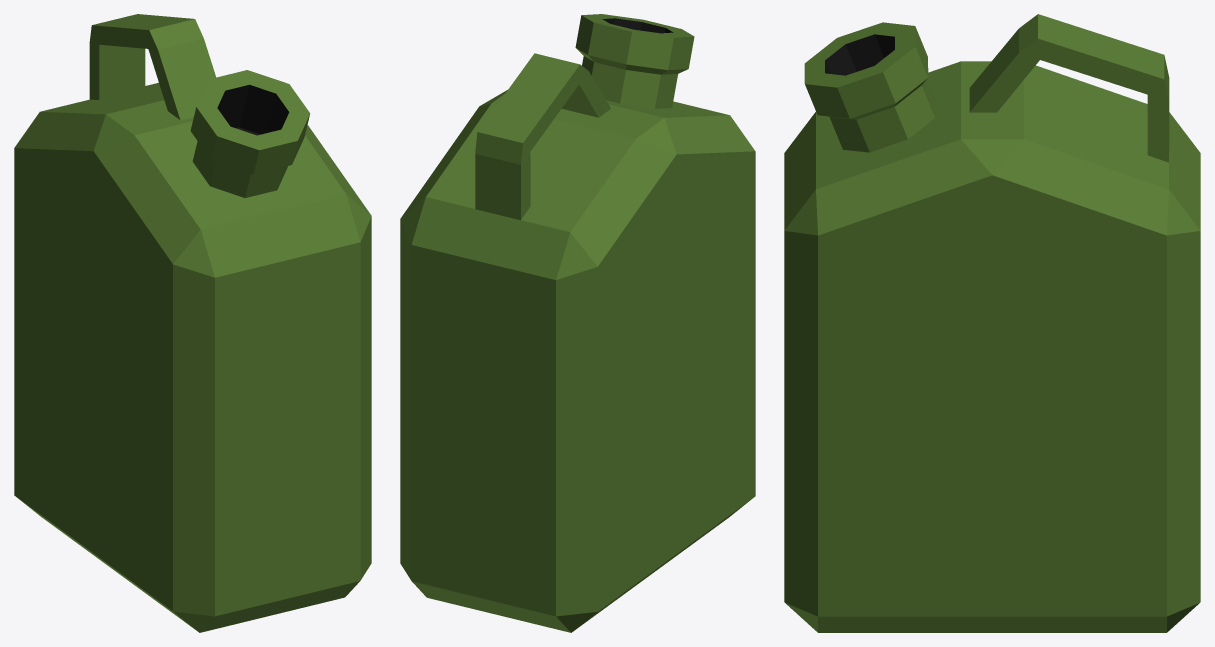
The model's file is bidonPequeñoGasolina.fbx.
3 views of the same model, side by side, from view 1: azimuth 30°, elevation 25°; view 2: azimuth 150°, elevation 25°; view 3: azimuth 270°, elevation 25° (orthographic). The views are drawn at different scales.
Parts seen in each view (by area): view 1: Cube; view 2: Cube; view 3: Cube.
Boxes of the visible parts, left/top/right/bottom form: Cube: left=14, top=14, right=371, bottom=632; Cube: left=400, top=14, right=755, bottom=632; Cube: left=784, top=14, right=1200, bottom=632.
Size of the model in its own units: 18.15 by 45.16 by 30.
